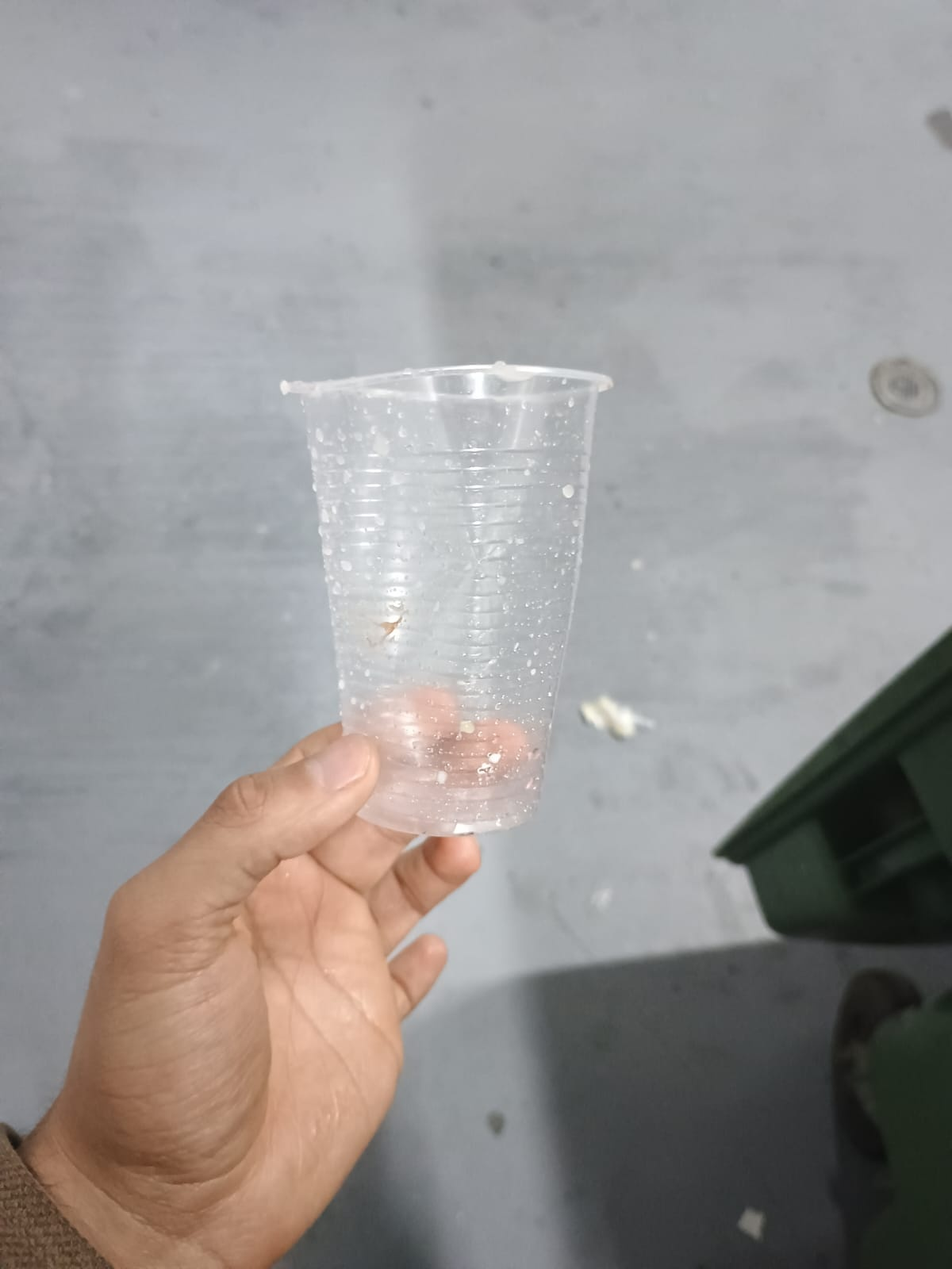Plastico: (280, 361, 614, 837)
